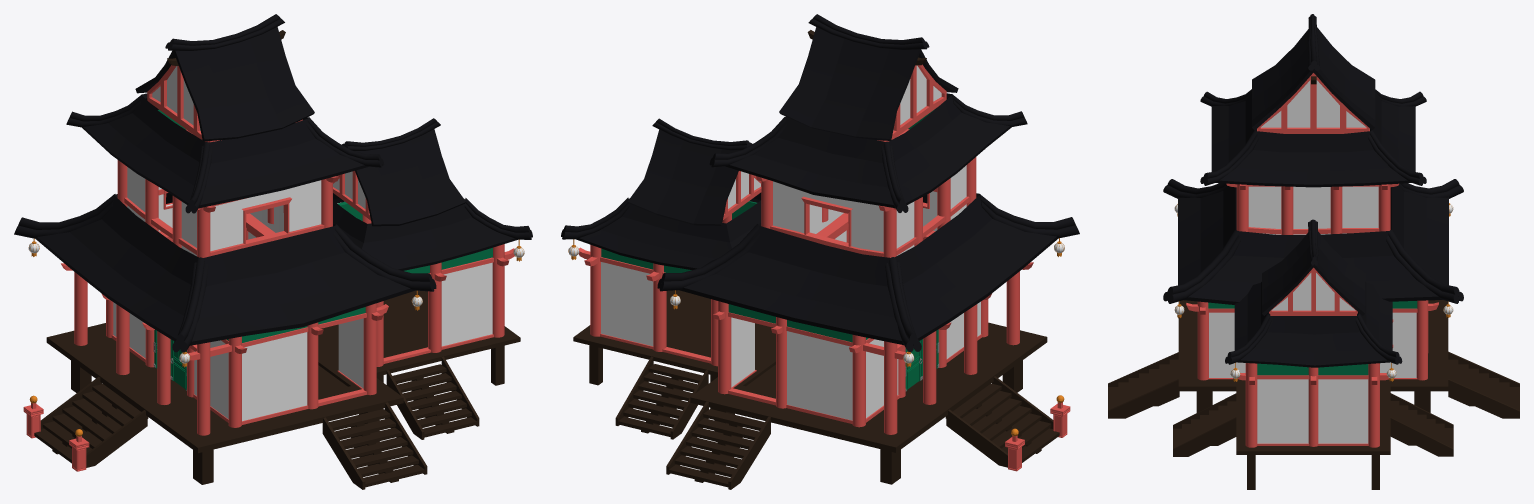
Rendered from Dojo.fbx.
3 views of the same model, side by side, from view 1: azimuth 30°, elevation 25°; view 2: azimuth 150°, elevation 25°; view 3: azimuth 270°, elevation 25° (orthographic). The views are drawn at different scales.
Visible parts, largest first — view 1: LowerRoof, MidRoof, Walls0, Platform, Pillars0, TopRoof, BackRoof, BackRoofLower, StraightStair003_LightWood_0, Flr2Walls, StraightStair001_LightWood_0, Platform1 (+17 smaller); view 2: LowerRoof, MidRoof, Walls0, Platform, Pillars0, TopRoof, BackRoof, BackRoofLower, StraightStair002_LightWood_0, StraightStair001_LightWood_0, Flr2Walls, Platform1 (+15 smaller); view 3: LowerRoof, MidRoof, Walls0, BackRoofLower, TopRoof, Platform, Pillars0, Flr2Walls, Cylinder023, BackRoof, Platform1, StraightStair002_LightWood_0 (+16 smaller).
Boxes of the visible parts, x1,y1,x2,y2 form: LowerRoof: (35,193,414,345); MidRoof: (82,93,368,208); Walls0: (113,232,492,421); Platform: (46,323,403,484); Pillars0: (74,215,504,435); TopRoof: (135,27,314,141); BackRoof: (336,129,465,226); BackRoofLower: (333,193,517,270); StraightStair003_LightWood_0: (322,402,427,489); Flr2Walls: (127,167,321,256); StraightStair001_LightWood_0: (34,376,148,467); Platform1: (318,290,520,409); LowerRoof: (679,193,1058,345); MidRoof: (725,93,1011,208); Walls0: (601,230,980,420); Platform: (690,322,1047,484); Pillars0: (590,214,1019,434); TopRoof: (779,27,958,140); BackRoof: (627,129,739,225); BackRoofLower: (576,192,761,269); StraightStair002_LightWood_0: (666,401,770,489); StraightStair001_LightWood_0: (945,376,1059,467); Flr2Walls: (773,165,966,255); Platform1: (573,290,775,409); LowerRoof: (1178,185,1448,304); MidRoof: (1211,92,1415,187); Walls0: (1209,312,1416,443); BackRoofLower: (1234,282,1392,367); TopRoof: (1252,27,1375,130); Platform: (1178,300,1448,412); Pillars0: (1197,300,1428,447); Flr2Walls: (1248,186,1378,234); Cylinder023: (1163,179,1463,303); BackRoof: (1262,231,1365,315); Platform1: (1236,386,1390,489); StraightStair002_LightWood_0: (1448,351,1519,418).
Bounding box in the file's own units: 359 × 306 × 329.
